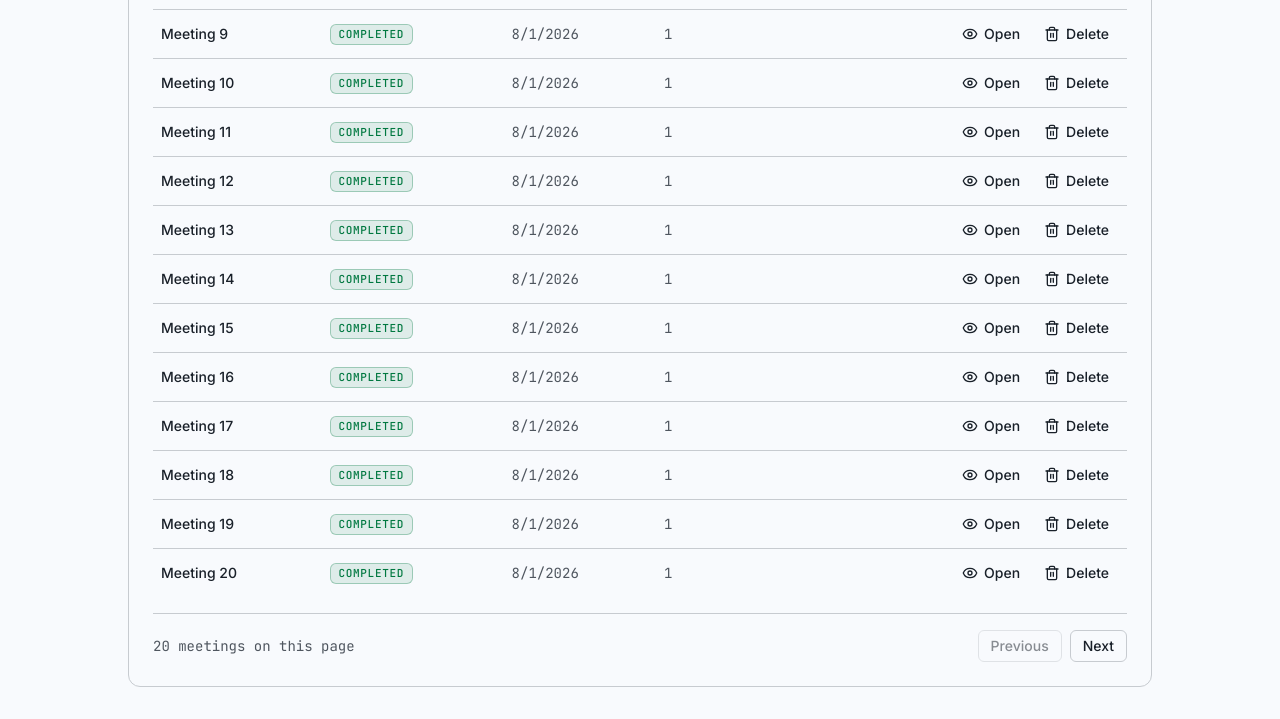
Meetings dashboard › steps to the next page and fetches offset 20
(page scrolled)
Click the button "Next" at [1098, 646], box left=1070, top=630, right=1127, bottom=662
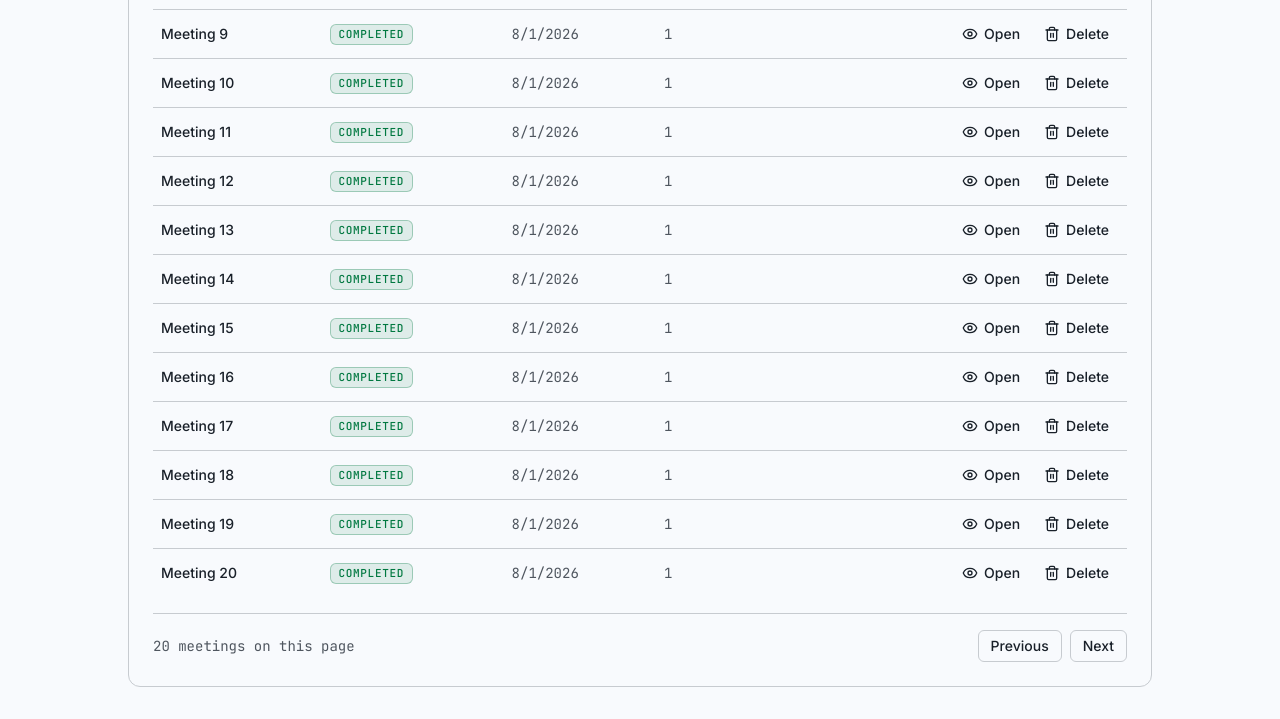
Now the button "Previous" is enabled, box left=978, top=630, right=1062, bottom=662
